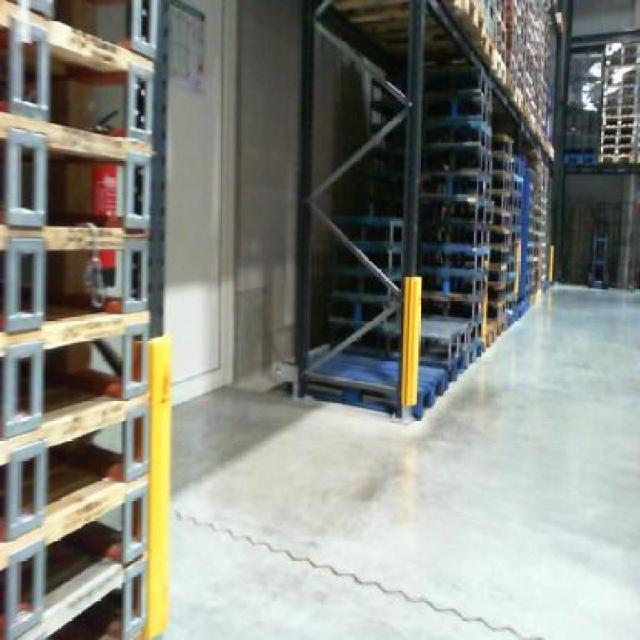pallet: (0, 375, 156, 539), (0, 4, 168, 148), (0, 296, 159, 436), (0, 214, 166, 335), (0, 115, 165, 234), (406, 351, 456, 412), (442, 309, 480, 380), (597, 132, 640, 154), (598, 112, 640, 134)
